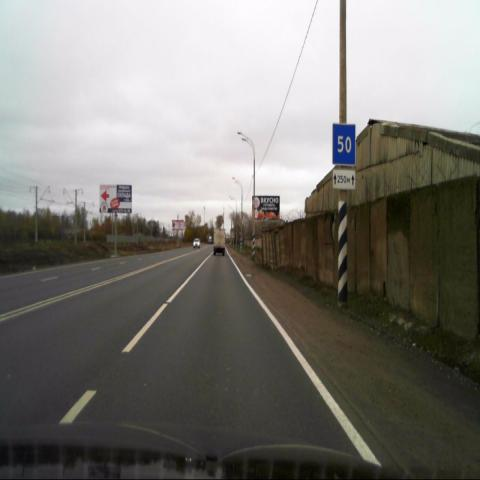6_2: (332, 124, 356, 167)
8_2_1: (332, 170, 356, 189)
